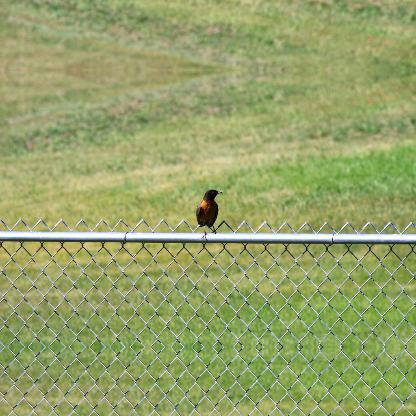Bird: (196, 188, 226, 240)
